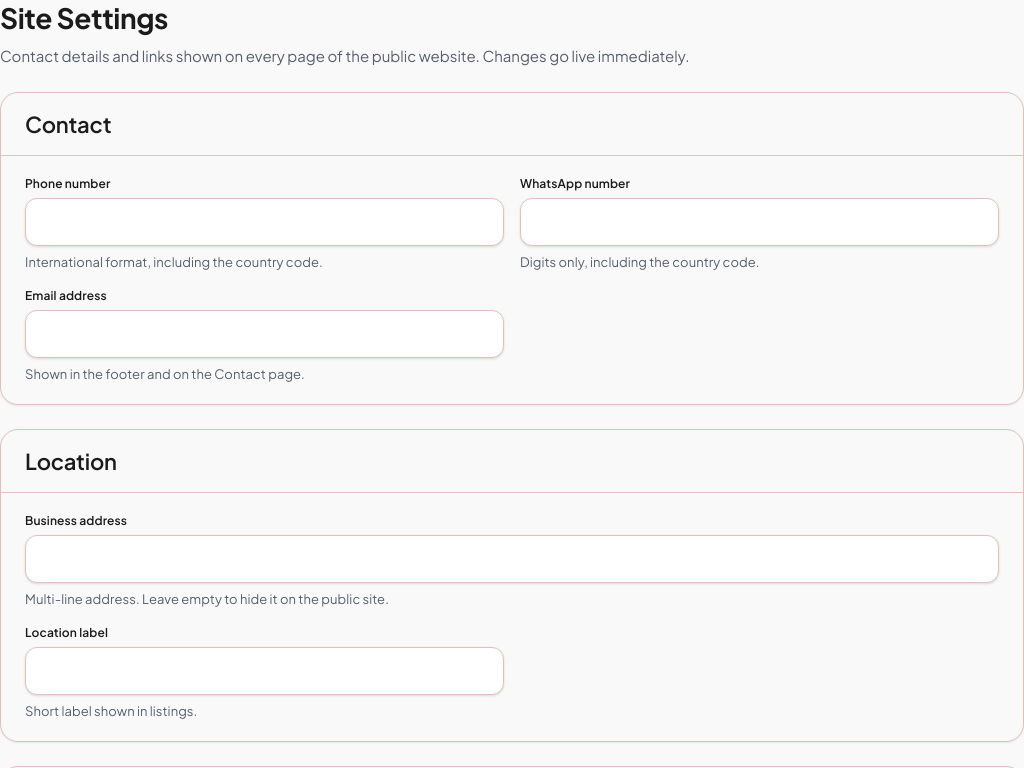
it: SettingsPage › shows a dismissible toast after a save
This screenshot has width=1024, height=768.
Type "+94771234567" into the field labelled "Phone number" at (264, 222), box [25,198,504,246]
(page scrolled)
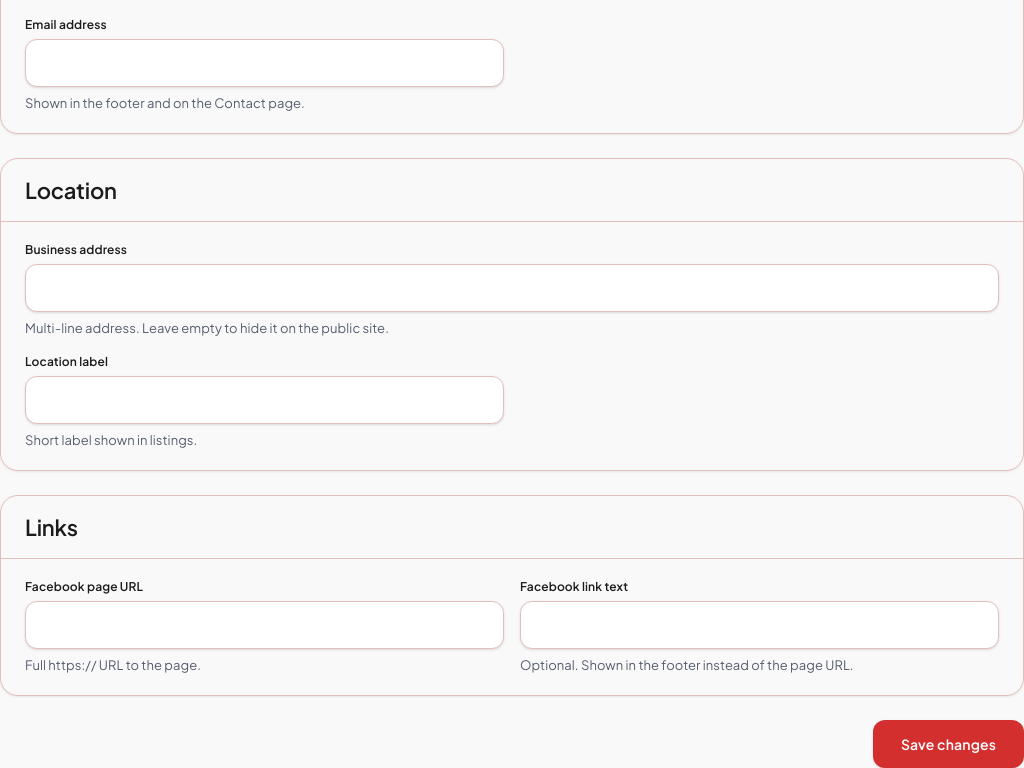
Click the button "Save changes" at (948, 744), box [873,720,1023,767]
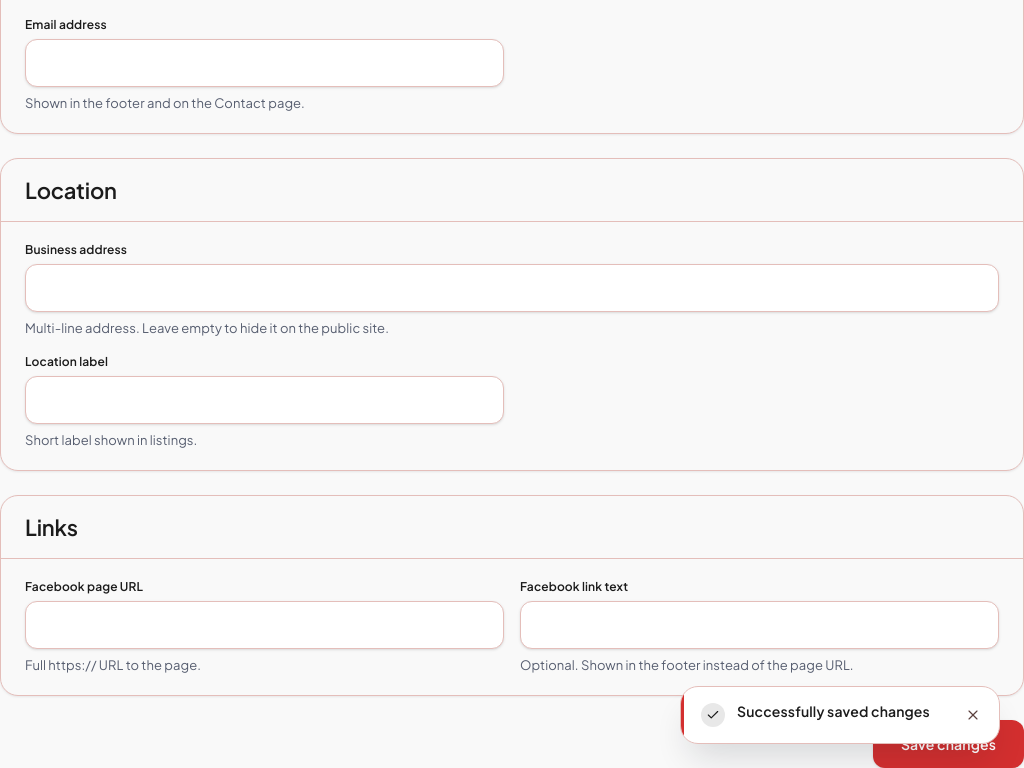
Check: the text "Successfully saved changes" is shown, box [737,701,947,721]
Click the button named "Dismiss notification" at (973, 715), box [959,701,987,729]
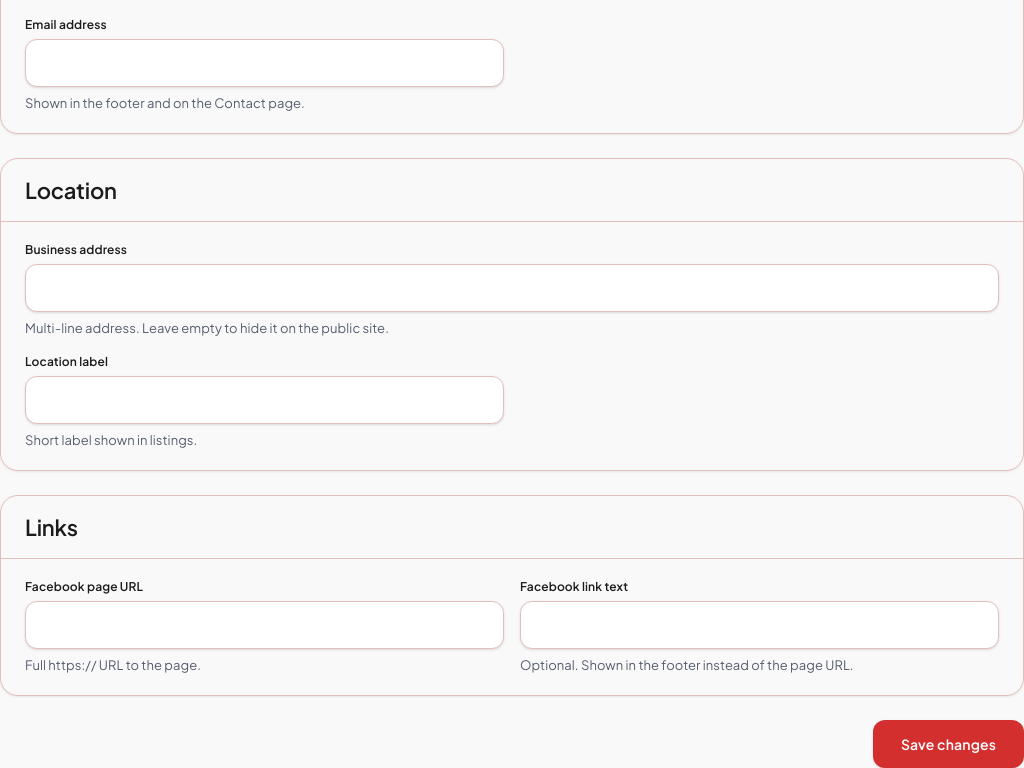
Check: the text "Successfully saved changes" is gone
